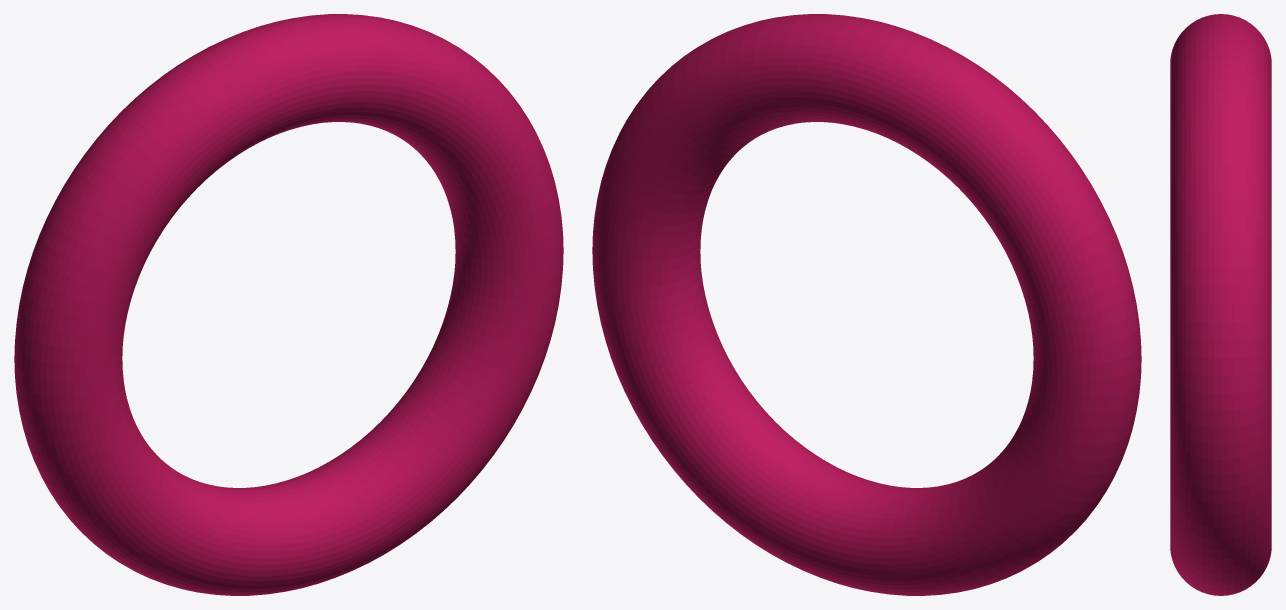
3 views of the same model, side by side, from view 1: azimuth 30°, elevation 25°; view 2: azimuth 150°, elevation 25°; view 3: azimuth 270°, elevation 25° (orthographic). The views are drawn at different scales.
Parts seen in each view (by area): view 1: world; view 2: world; view 3: world.
Boxes of the visible parts, box(x1,y1,x2,y2) form: world: box(14, 14, 563, 595); world: box(592, 14, 1141, 595); world: box(1170, 14, 1271, 595).
Bounding box in the file's own units: 26.67 × 26.67 × 4.66.
